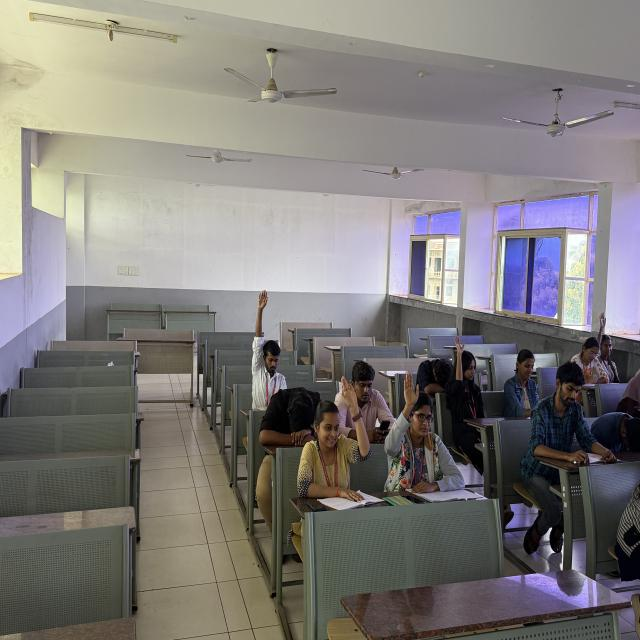Hand Rising: (387, 368, 467, 499), (238, 281, 294, 417), (314, 374, 376, 496), (446, 322, 486, 429), (595, 309, 621, 378)
Reading: (529, 362, 612, 470)
Sleeping: (250, 381, 331, 473), (408, 356, 463, 400)
Using Phone: (336, 354, 400, 448)
